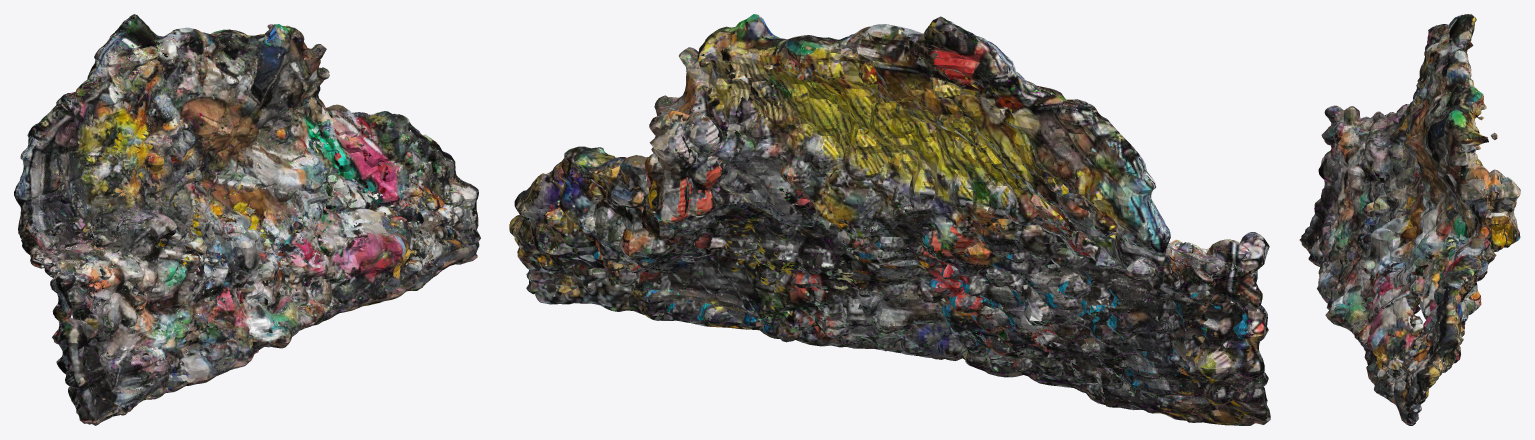
File: Garbage.fbx
3 views of the same model, side by side, from view 1: azimuth 30°, elevation 25°; view 2: azimuth 150°, elevation 25°; view 3: azimuth 270°, elevation 25° (orthographic). The views are drawn at different scales.
Parts seen in each view (by area): view 1: mesh; view 2: mesh; view 3: mesh.
Boxes of the visible parts, <box> form: mesh: <box>14,14,480,425</box>; mesh: <box>509,14,1270,425</box>; mesh: <box>1299,14,1520,425</box>.
Size of the model in its own units: 87.39 by 55.65 by 38.44.
Materials: 1 (1 with a texture image).
